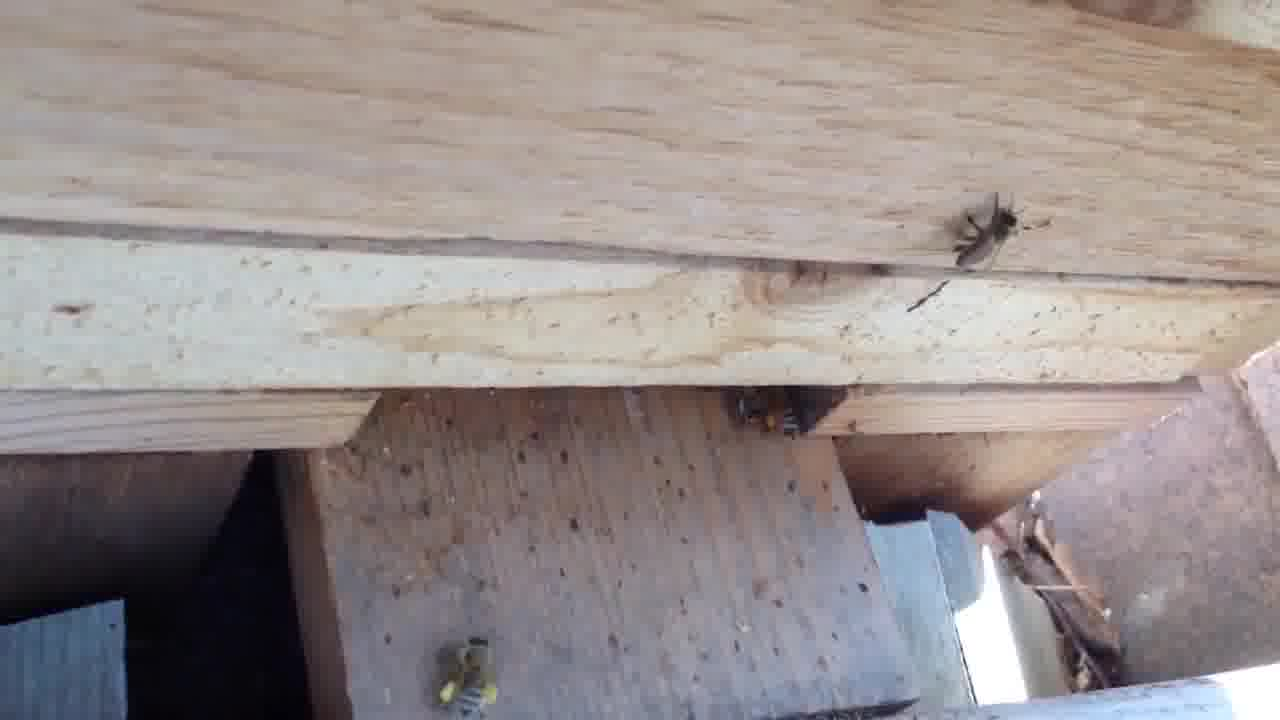pollen: (431, 627, 505, 720)
